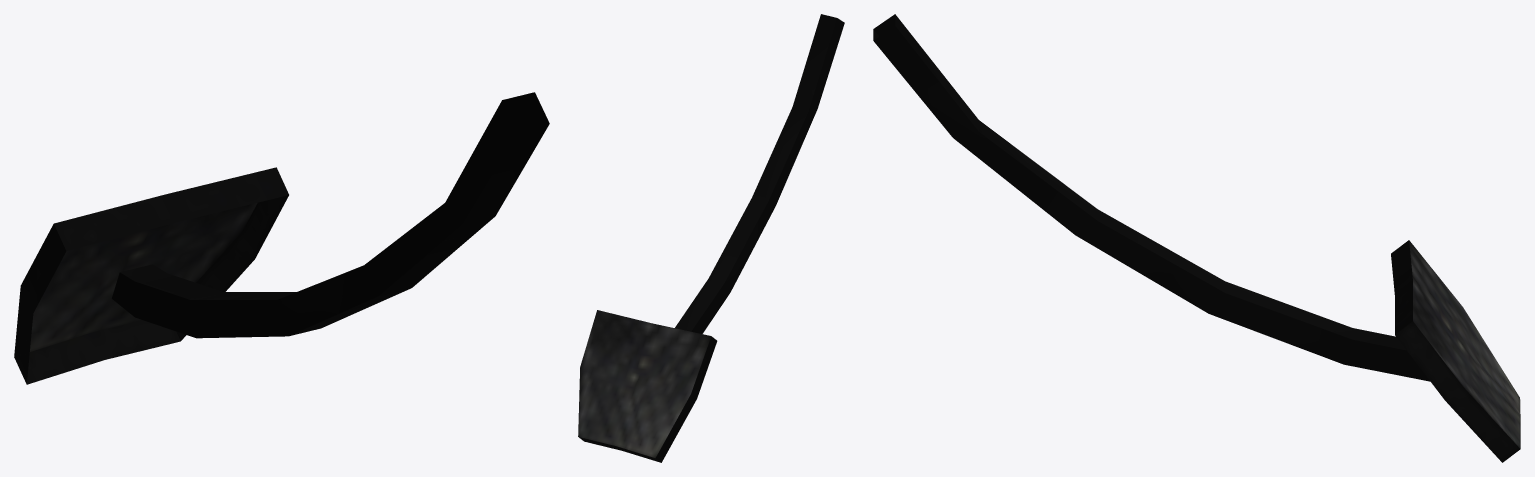
Rendered from fushache.FBX.
The picture shows the model from 3 angles, left to right: view 1: azimuth 30°, elevation 25°; view 2: azimuth 150°, elevation 25°; view 3: azimuth 270°, elevation 25°; orthographic projection. The views are drawn at different scales.
Parts seen in each view (by area): view 1: fushache; view 2: fushache; view 3: fushache.
Part boxes in pixels (x1=…): fushache: x1=14, y1=92, x2=549, y2=384; fushache: x1=578, y1=14, x2=844, y2=462; fushache: x1=873, y1=14, x2=1520, y2=462.
Size of the model in its own units: 26.95 by 65.26 by 91.2.
